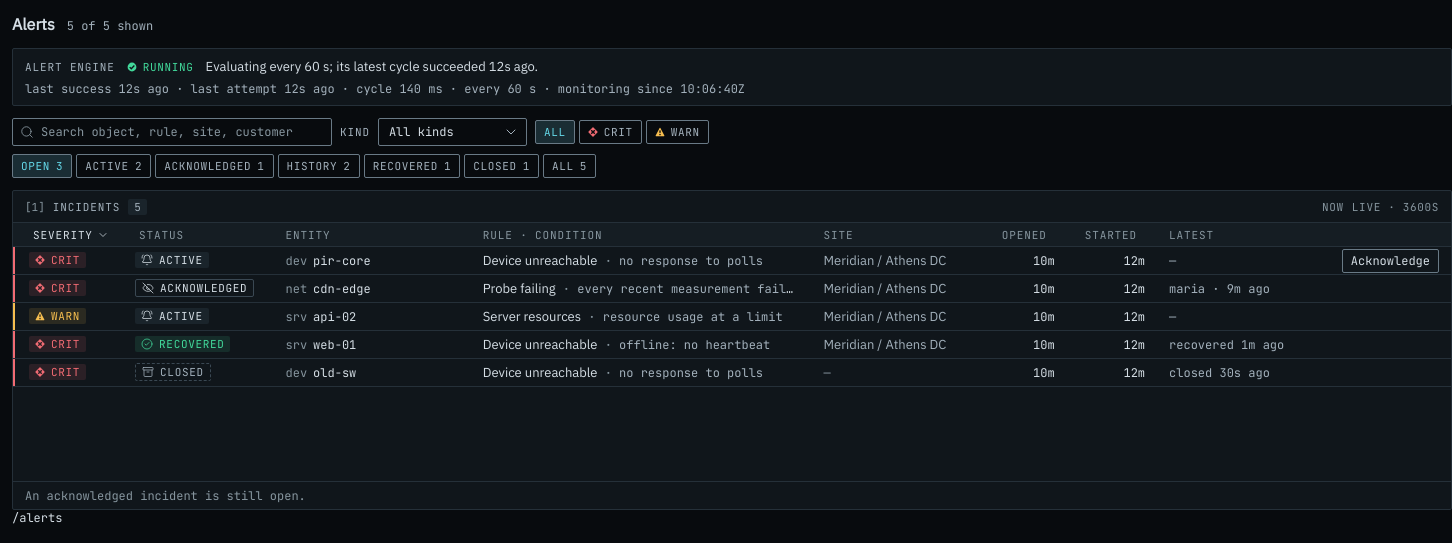
Test: the filters › narrow by severity and by kind, and write both in the URL
Click the button "CRIT" at (610, 132), box [579,120,642,144]
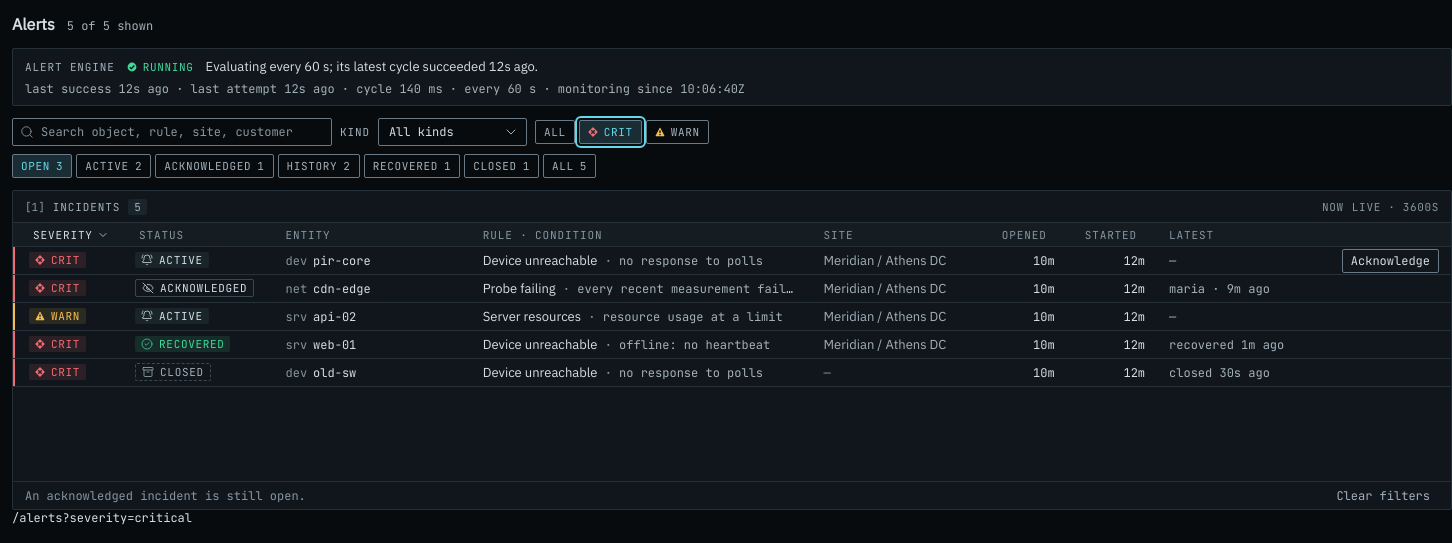
Result: the text with test id "location" shows "severity=critical" at [12,510,192,526]
Select "Interfaces" in the dropdown labelled "Kind" at (452, 132), box [378,118,527,146]
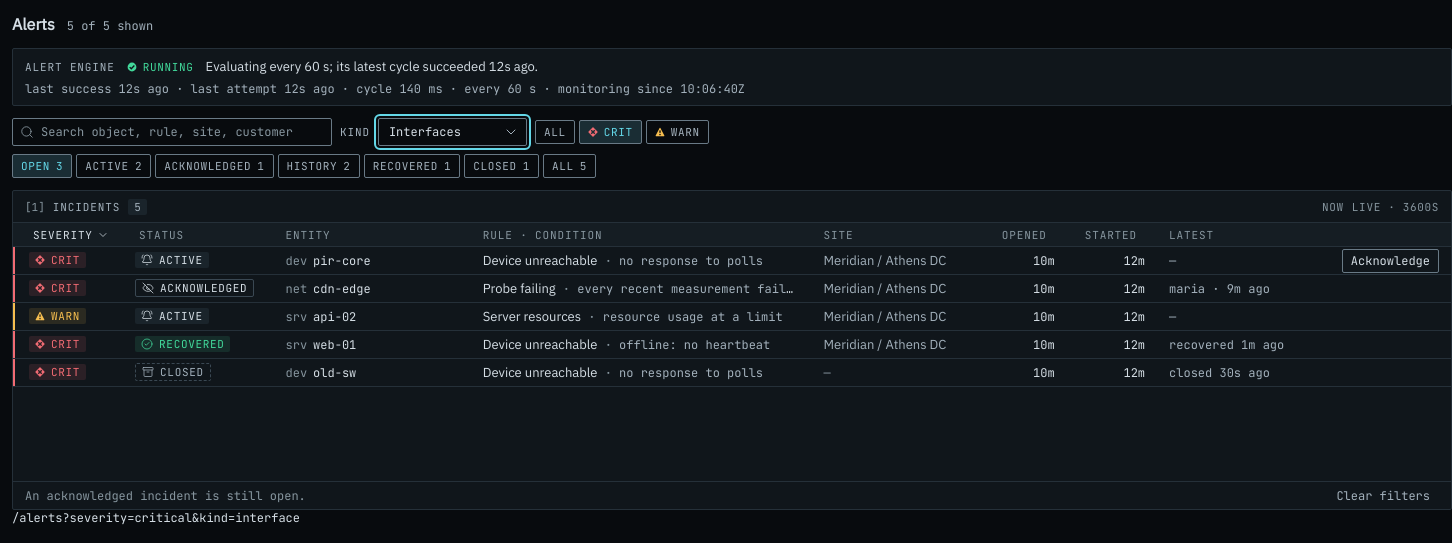
Result: the text with test id "location" shows "kind=interface" at [12,510,300,526]
